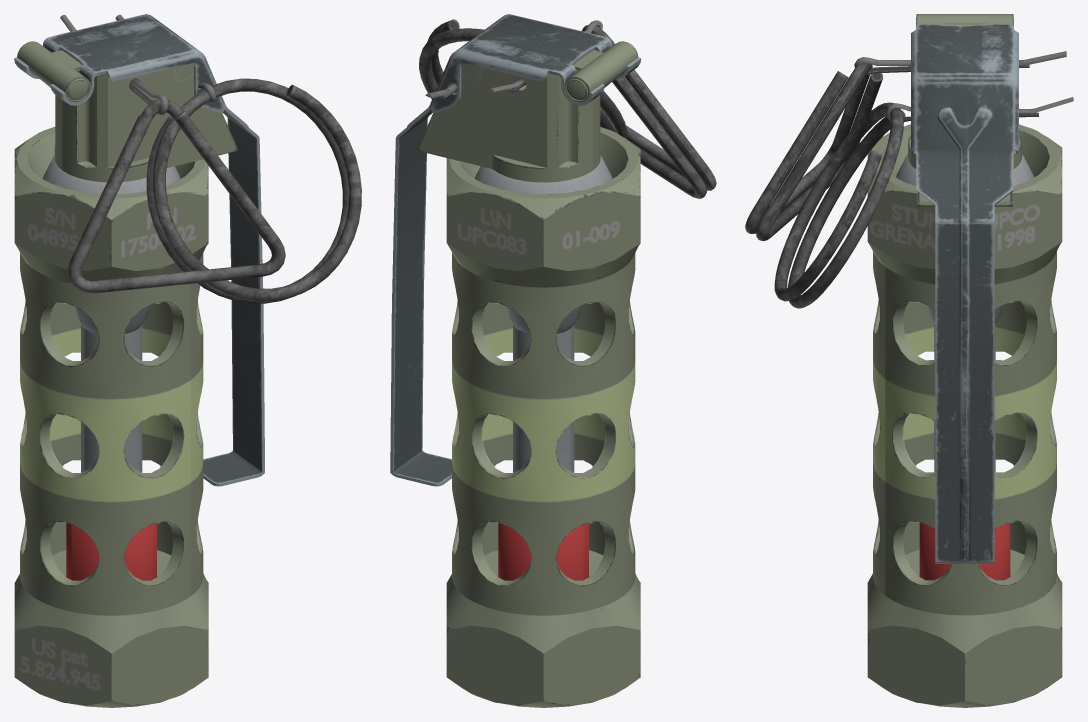
File: grenade.glb
The picture shows the model from 3 angles, left to right: view 1: azimuth 30°, elevation 25°; view 2: azimuth 150°, elevation 25°; view 3: azimuth 270°, elevation 25°; orthographic projection.
Parts seen in each view (by area): view 1: Object.001_low, Object.005_low, Object.004_low, Object.007_low, Object.009_low, Object.003_low, Object.010_low; view 2: Object.001_low, Object.005_low, Object.004_low, Object.003_low, Object.009_low, Object.007_low; view 3: Object.001_low, Object.005_low, Object.007_low, Object.009_low, Object.003_low, Object.004_low, Object.010_low, Object.008_low.
Boxes of the visible parts, x1,y1,x2,y2 form: Object.001_low: [14, 127, 208, 707]; Object.005_low: [14, 14, 264, 486]; Object.004_low: [17, 41, 237, 182]; Object.007_low: [146, 78, 361, 303]; Object.009_low: [68, 98, 285, 293]; Object.003_low: [66, 305, 156, 580]; Object.010_low: [60, 15, 168, 115]; Object.001_low: [446, 127, 640, 707]; Object.005_low: [390, 14, 641, 486]; Object.004_low: [417, 41, 638, 182]; Object.003_low: [498, 306, 588, 580]; Object.009_low: [582, 20, 716, 198]; Object.007_low: [419, 19, 627, 139]; Object.001_low: [867, 124, 1062, 707]; Object.005_low: [911, 24, 1018, 563]; Object.007_low: [774, 102, 905, 308]; Object.009_low: [745, 63, 883, 241]; Object.003_low: [919, 304, 1010, 580]; Object.004_low: [908, 14, 1022, 206]; Object.010_low: [854, 51, 1066, 74]; Object.008_low: [886, 97, 1073, 121].
Bounding box in the file's own units: 0.7285 × 1.52 × 0.7229.
1 material, 1 textured.
